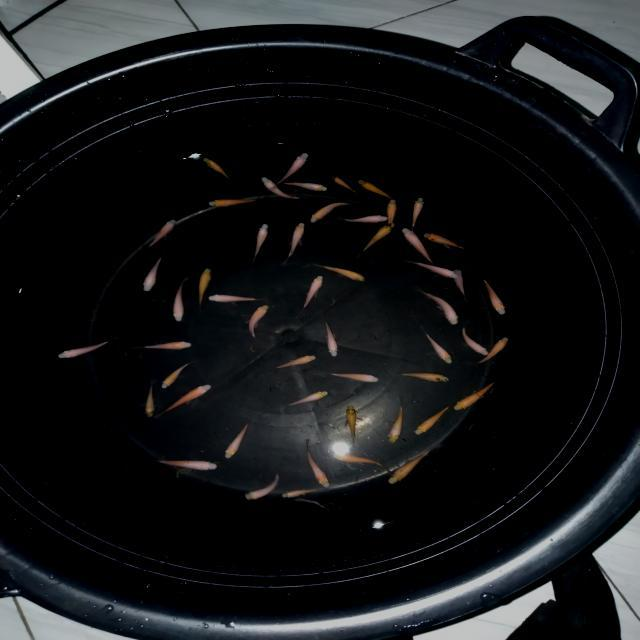nila: (384, 446, 436, 487), (299, 436, 337, 492), (415, 286, 463, 328), (327, 443, 395, 472), (158, 382, 214, 417), (270, 148, 315, 190), (352, 176, 414, 205), (452, 376, 500, 413), (410, 399, 455, 438), (416, 324, 455, 368), (54, 336, 122, 360), (470, 330, 513, 367), (398, 226, 437, 266), (356, 220, 397, 255), (239, 470, 282, 503), (220, 420, 254, 461), (140, 250, 173, 292), (399, 256, 462, 278), (142, 216, 180, 252), (312, 260, 367, 284), (478, 274, 508, 318), (258, 176, 301, 206), (422, 228, 473, 252), (198, 156, 236, 187), (279, 222, 307, 264), (151, 456, 222, 472), (308, 199, 351, 225), (321, 317, 348, 358), (246, 222, 272, 264), (285, 387, 332, 410), (246, 302, 276, 338), (386, 394, 406, 448), (326, 368, 387, 385), (136, 338, 198, 354), (159, 362, 192, 391), (400, 369, 456, 386), (342, 404, 363, 448), (171, 277, 191, 323), (276, 178, 330, 195), (460, 323, 488, 355), (300, 274, 324, 310), (274, 352, 321, 370), (205, 290, 262, 304), (197, 266, 214, 312), (327, 172, 357, 197), (410, 192, 428, 232), (452, 264, 470, 304), (341, 213, 394, 226), (201, 196, 258, 208), (142, 384, 158, 420), (384, 196, 400, 228), (280, 486, 318, 498)
